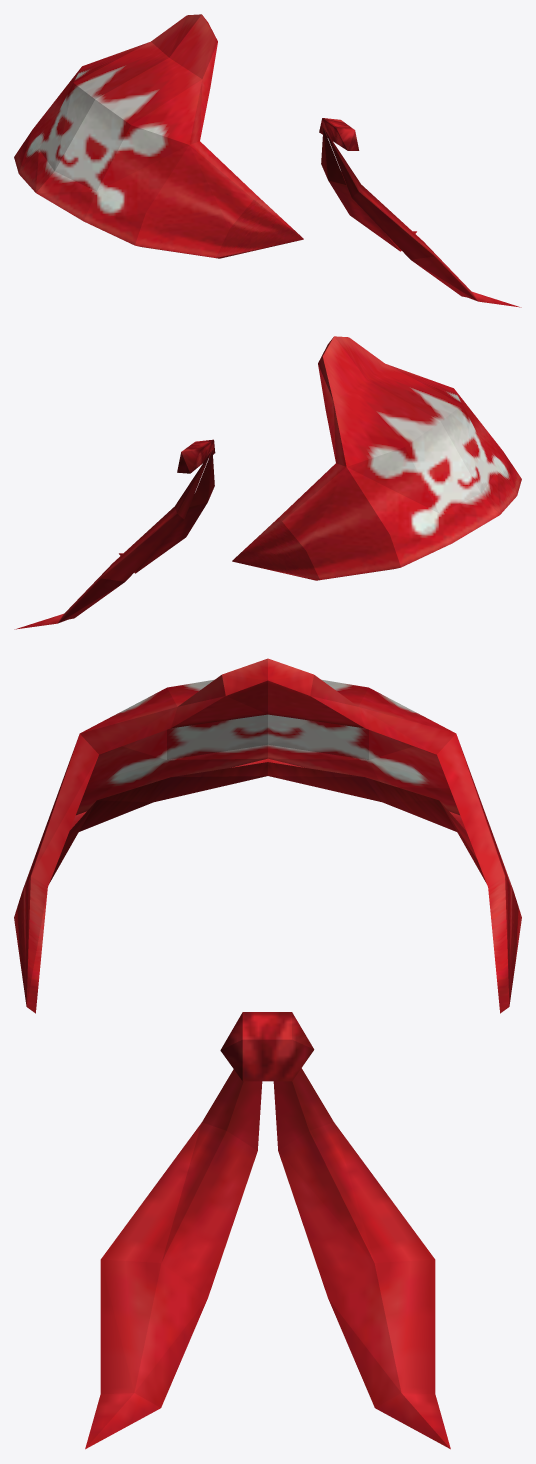
Rendered from Sheep_pirateBandana.obj.
The picture shows the model from 3 angles, top to bottom: view 1: azimuth 30°, elevation 25°; view 2: azimuth 150°, elevation 25°; view 3: azimuth 270°, elevation 25°; orthographic projection. The views are drawn at different scales.
Parts seen in each view (by area): view 1: Sheep_pirateBandana_tri; view 2: Sheep_pirateBandana_tri; view 3: Sheep_pirateBandana_tri.
Part boxes in pixels (<box>): Sheep_pirateBandana_tri: <box>14,14,521,307</box>; Sheep_pirateBandana_tri: <box>14,336,521,629</box>; Sheep_pirateBandana_tri: <box>14,658,521,1449</box>.
Bounding box in the file's own units: 0.4162 × 0.2937 × 0.2406.
1 material, 1 textured.
